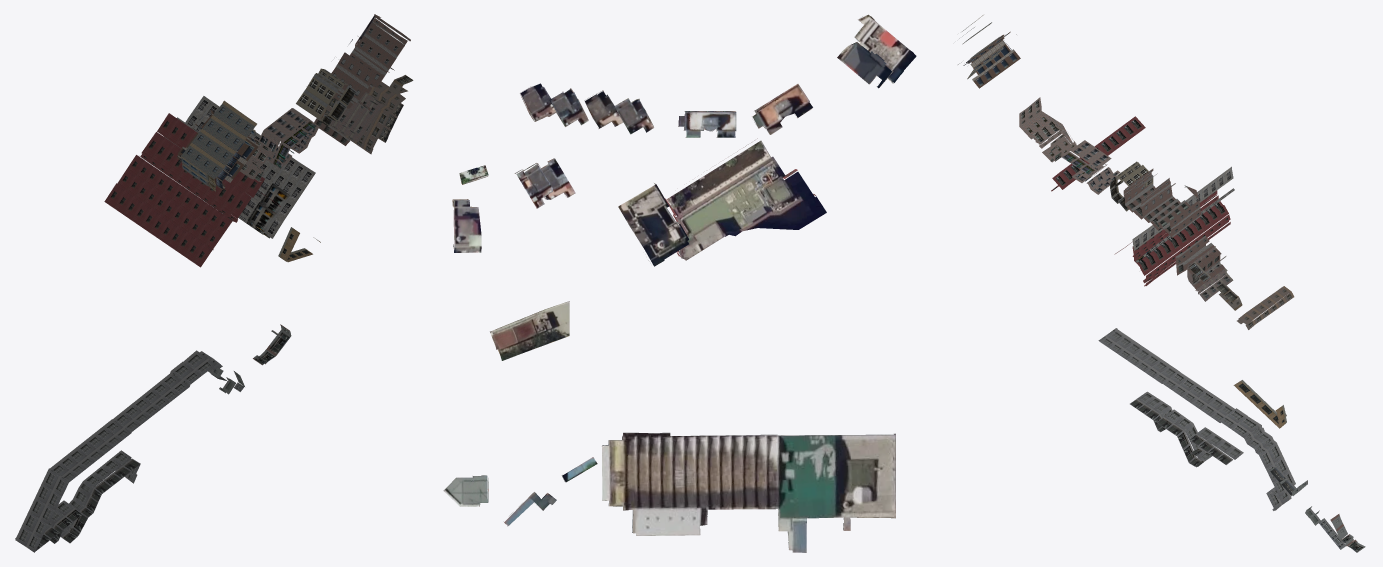
Rendered from tile_LOD4_r15_c7.glb.
3 renders of one model, left to right at view 1: azimuth 30°, elevation 25°; view 2: azimuth 150°, elevation 25°; view 3: azimuth 270°, elevation 25°, orthographic. The views are drawn at different scales.
Bounding box in the file's own units: 157 × 173 × 143.
Materials: 79 (79 with a texture image).
